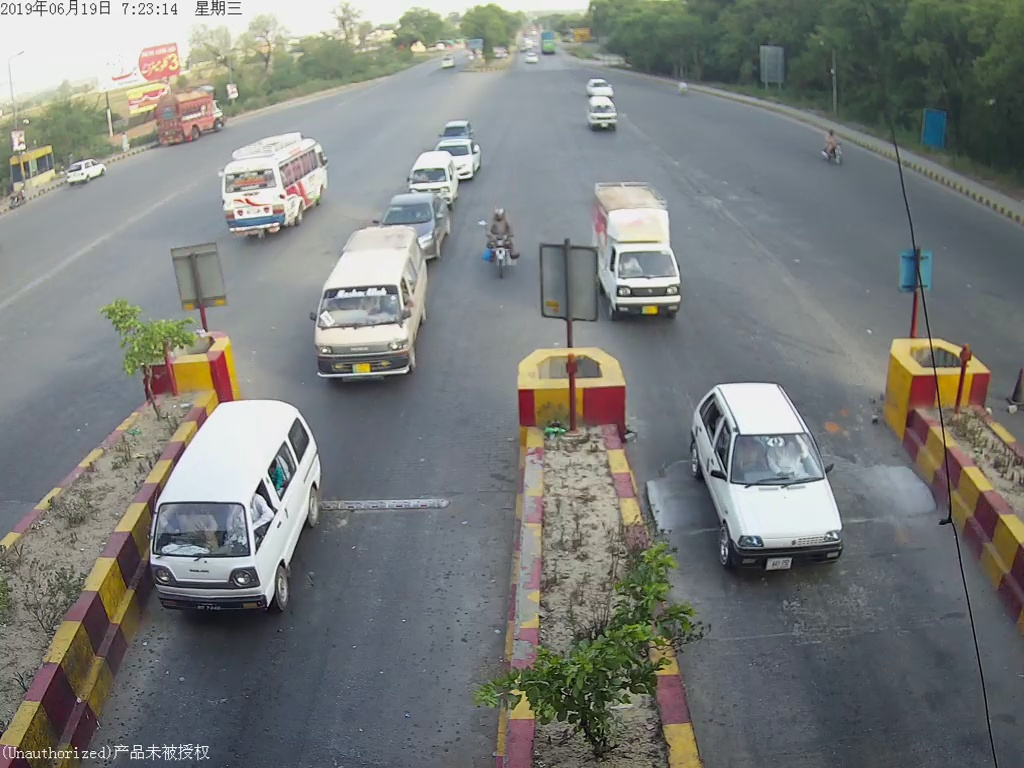Cat-1: (148, 400, 326, 628), (683, 379, 853, 581), (584, 178, 690, 329)
Cat-2: (300, 233, 438, 391)
